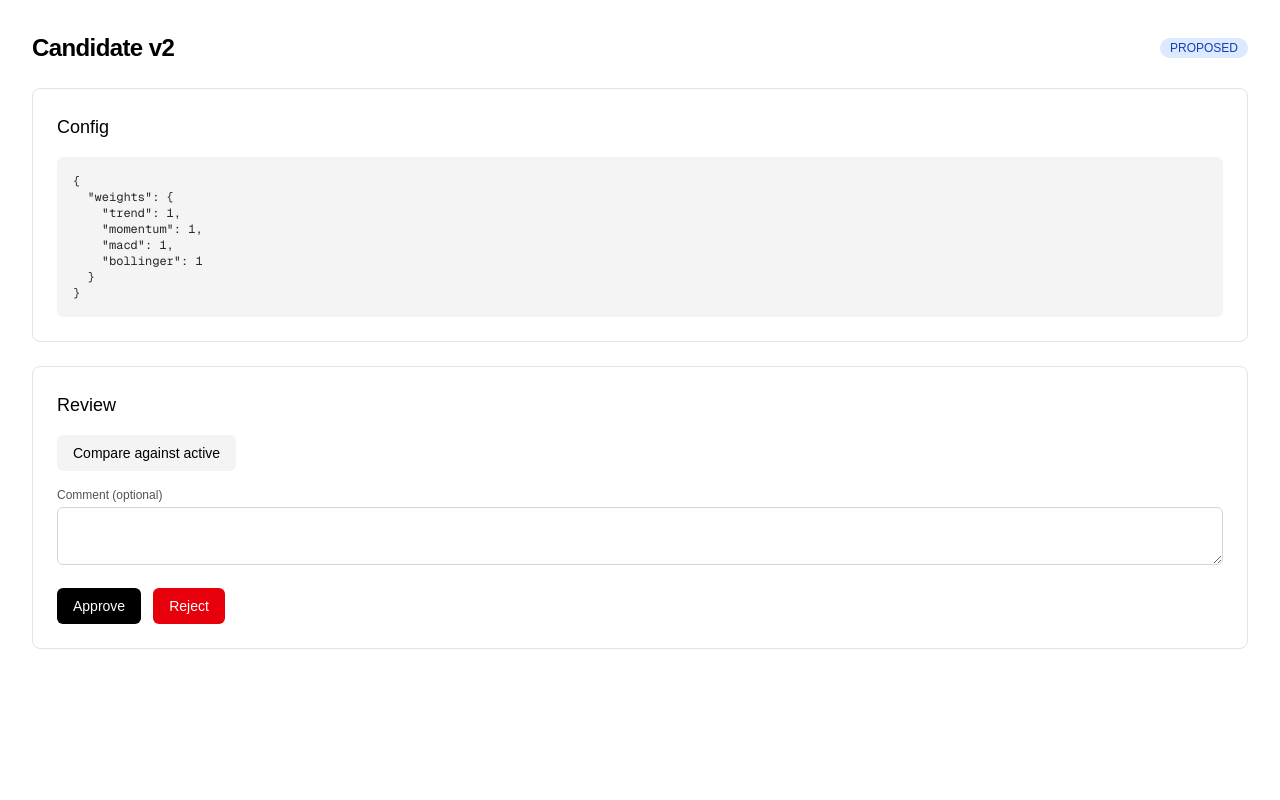
Test: StrategyVersionDetailPage — propose→compare→approve/reject state machine › surfaces an approve error via ErrorBanner and leaves status unchanged
Check: the heading "Candidate v2" is shown, box [32,32,174,64]
Click the button "Approve" at [99, 606], box [57,588,141,624]
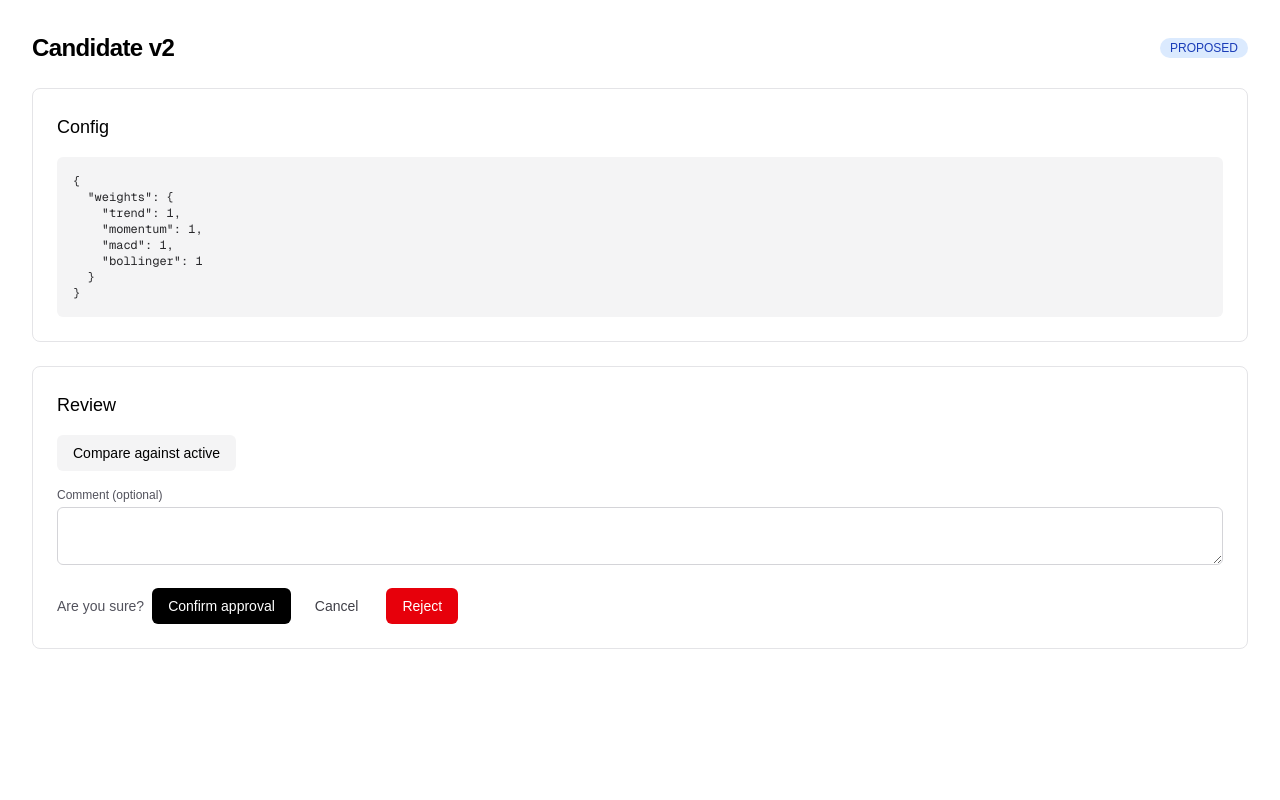
Click the button "Confirm approval" at [222, 606], box [152,588,291,624]
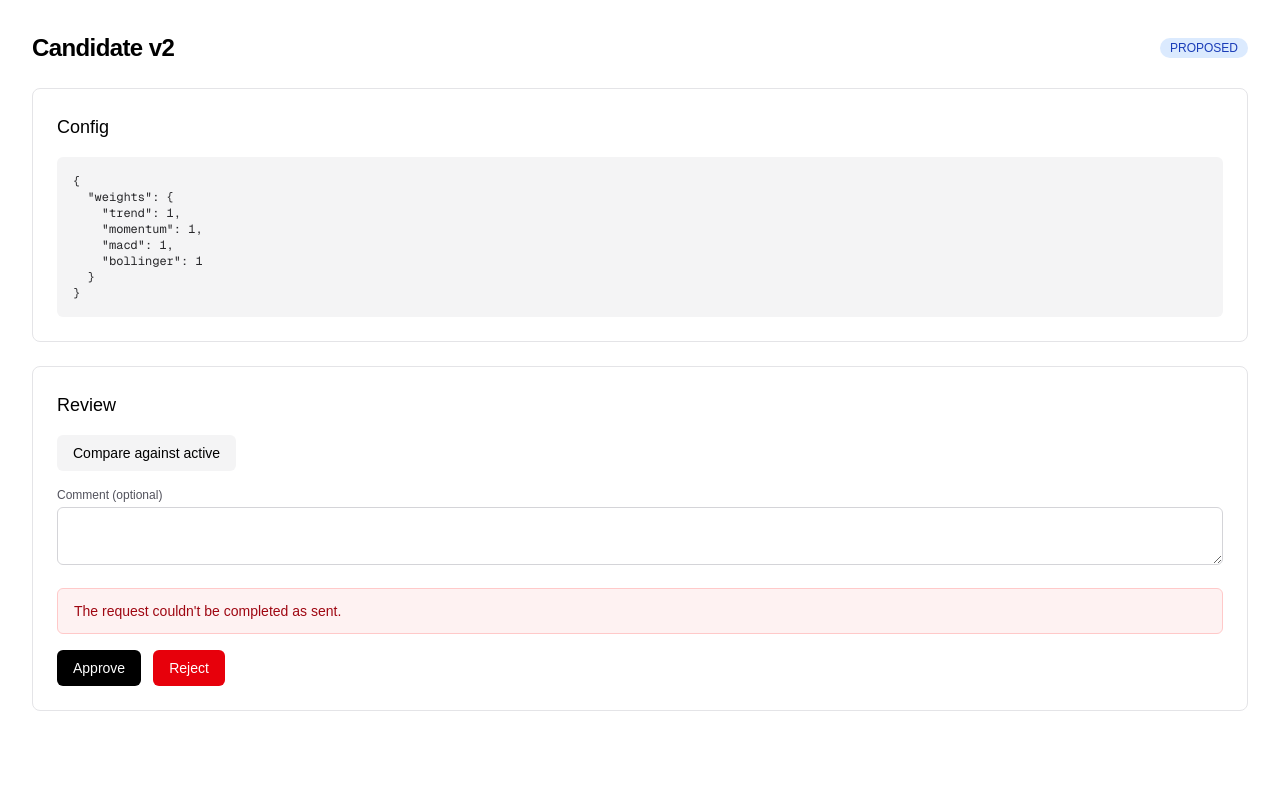
Check: the text "PROPOSED" is shown, box [1160,38,1248,58]
Check: the message reads "The request couldn't be completed as sent.", box [74,603,341,619]
